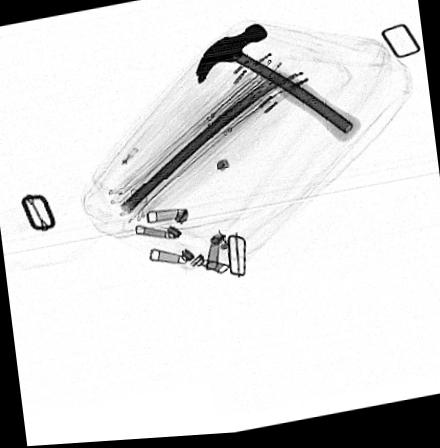Hammer: (194, 25, 361, 146)
